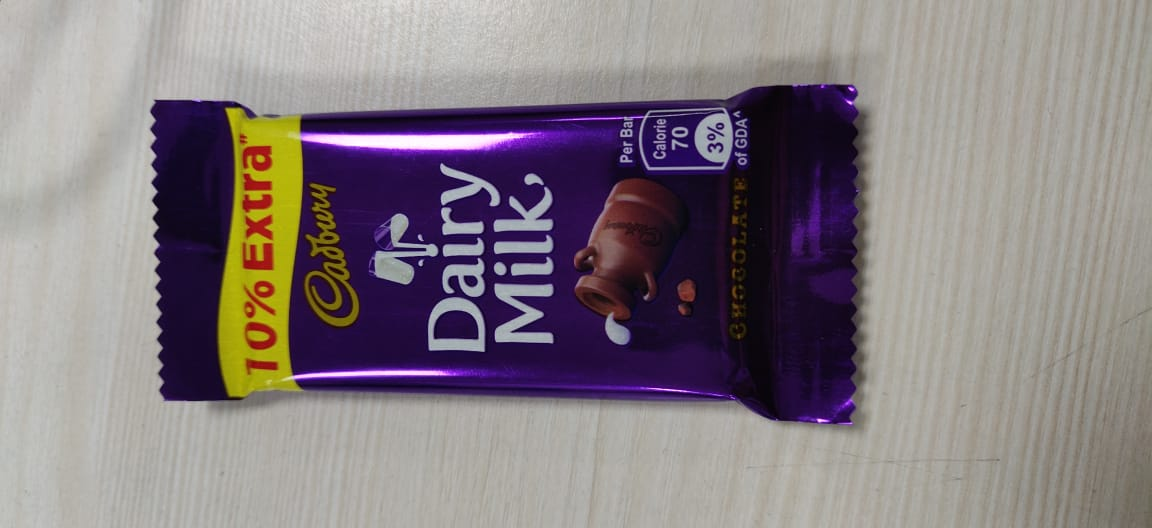dairy milk: (143, 76, 875, 434)
